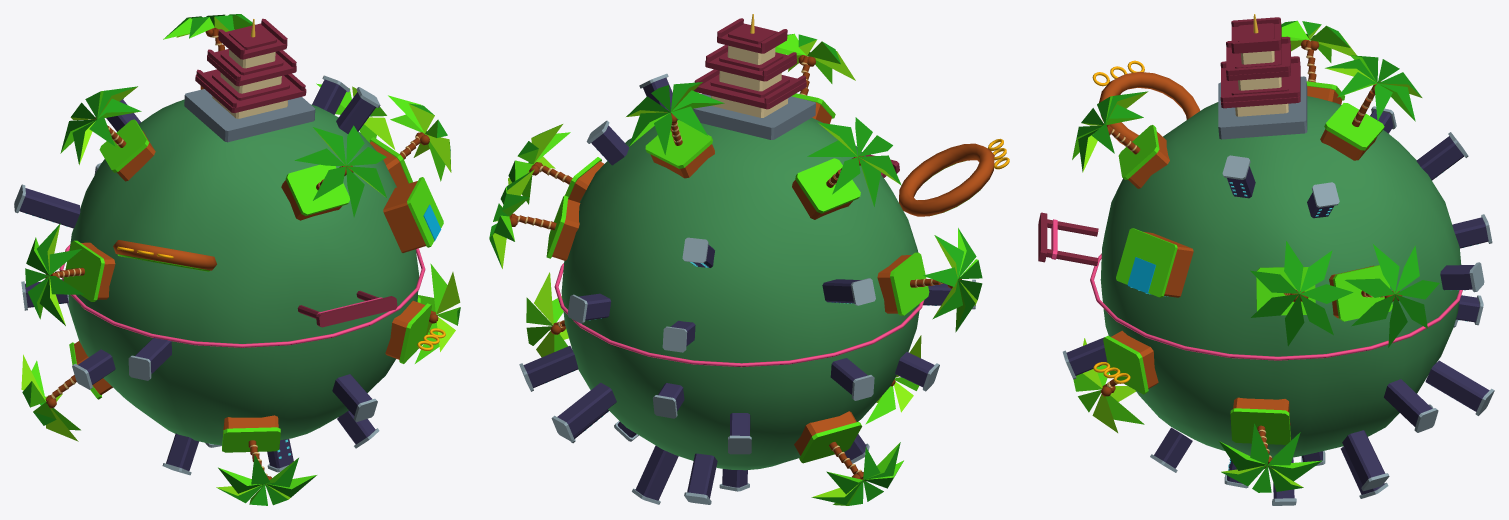
Rendered from dojo-low.obj.
3 renders of one model, left to right at view 1: azimuth 30°, elevation 25°; view 2: azimuth 150°, elevation 25°; view 3: azimuth 270°, elevation 25°, orthographic. The views are drawn at different scales.
Visible parts, largest first — view 1: surface, neon_pagoda, green_hill_island_142, green_hill_island_394, green_hill_island_836, green_hill_island_114, green_hill_island_322, turquoise_cascade, green_hill_island_800, green_hill_island_613, green_hill_island_720, orbital_neon_belt (+13 smaller); view 2: surface, neon_pagoda, green_hill_island_114, green_hill_island_44, green_hill_island_394, green_hill_island_800, green_hill_loop, green_hill_island_348, green_hill_island_322, green_hill_island_142, green_hill_island_720, orbital_neon_belt (+14 smaller); view 3: surface, neon_pagoda, green_hill_island_720, green_hill_island_348, green_hill_island_44, green_hill_island_322, green_hill_island_142, turquoise_cascade, green_hill_island_613, green_hill_island_114, green_hill_loop, green_hill_island_836 (+13 smaller).
Part boxes in pixels (box(x1,y1,x2,y2)): surface: box(68, 99, 418, 445); neon_pagoda: box(184, 18, 315, 142); green_hill_island_142: box(281, 125, 386, 220); green_hill_island_394: box(25, 223, 115, 325); green_hill_island_836: box(216, 415, 316, 505); green_hill_island_114: box(60, 86, 155, 181); green_hill_island_322: box(369, 95, 451, 187); turquoise_cascade: box(383, 177, 443, 252); green_hill_island_800: box(21, 341, 112, 441); green_hill_island_613: box(385, 300, 445, 363); green_hill_island_720: box(415, 263, 460, 363); orbital_neon_belt: box(59, 244, 425, 347); surface: box(561, 118, 919, 470); neon_pagoda: box(692, 14, 815, 139); green_hill_island_114: box(792, 117, 901, 219); green_hill_island_44: box(626, 82, 724, 178); green_hill_island_394: box(877, 228, 982, 332); green_hill_island_800: box(794, 411, 903, 505); green_hill_loop: box(899, 138, 1009, 216); green_hill_island_348: box(489, 169, 580, 268); green_hill_island_322: box(508, 124, 603, 204); green_hill_island_142: box(775, 33, 855, 123); green_hill_island_720: box(526, 272, 568, 357); orbital_neon_belt: box(554, 263, 924, 367); surface: box(1100, 96, 1461, 458); neon_pagoda: box(1218, 14, 1307, 139); green_hill_island_720: box(1219, 397, 1322, 492); green_hill_island_348: box(1329, 244, 1439, 347); green_hill_island_44: box(1320, 55, 1422, 160); green_hill_island_322: box(1250, 241, 1353, 346); green_hill_island_142: box(1072, 91, 1169, 188); turquoise_cascade: box(1116, 228, 1193, 297); green_hill_island_613: box(1093, 330, 1158, 394); green_hill_island_114: box(1281, 20, 1356, 104); green_hill_loop: box(1092, 60, 1200, 145); green_hill_island_836: box(1073, 338, 1144, 432).
Bounding box in the file's own units: 13.82 × 13.85 × 12.41.
